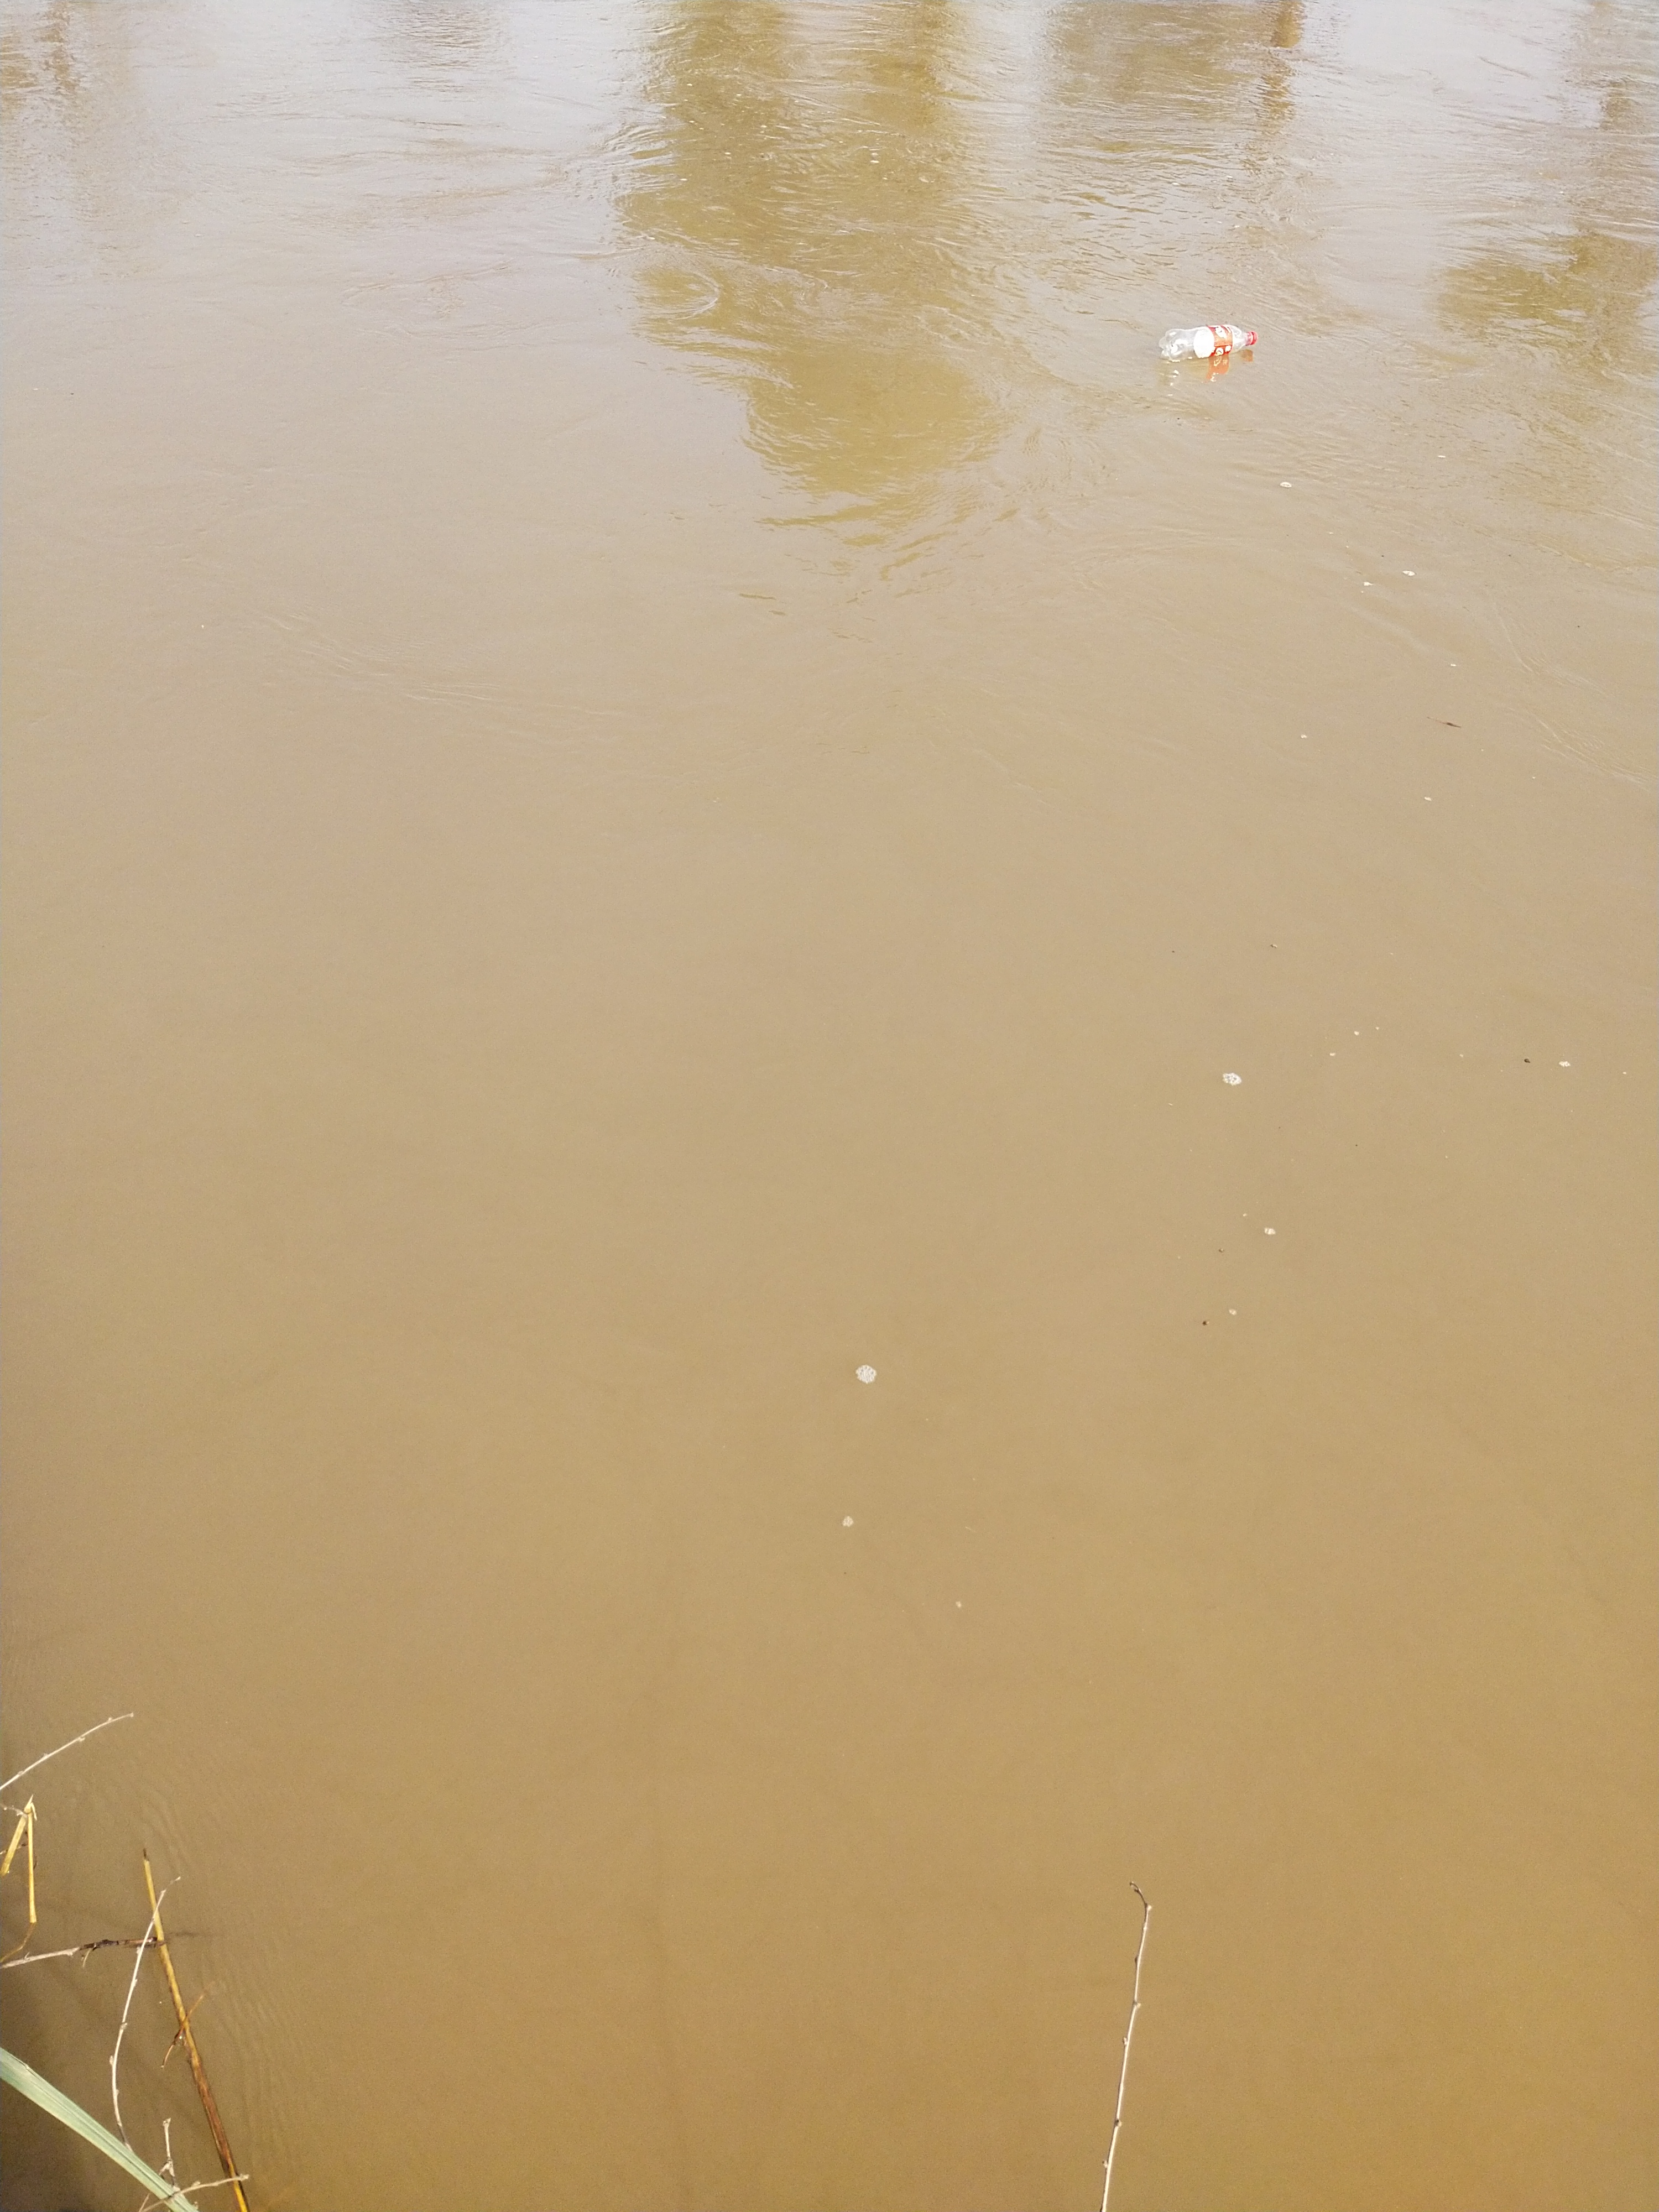Plastic Bottle: (1159, 324, 1256, 361)
